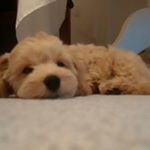puppy: (2, 31, 150, 101)
